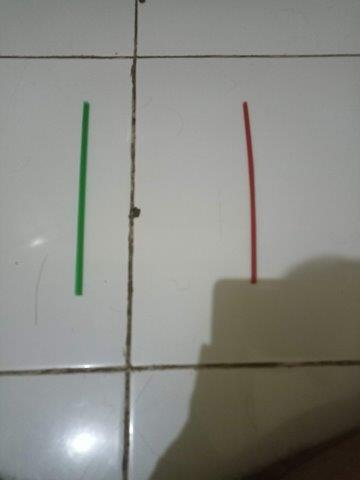sedotan: (75, 102, 90, 296), (243, 102, 257, 283)
